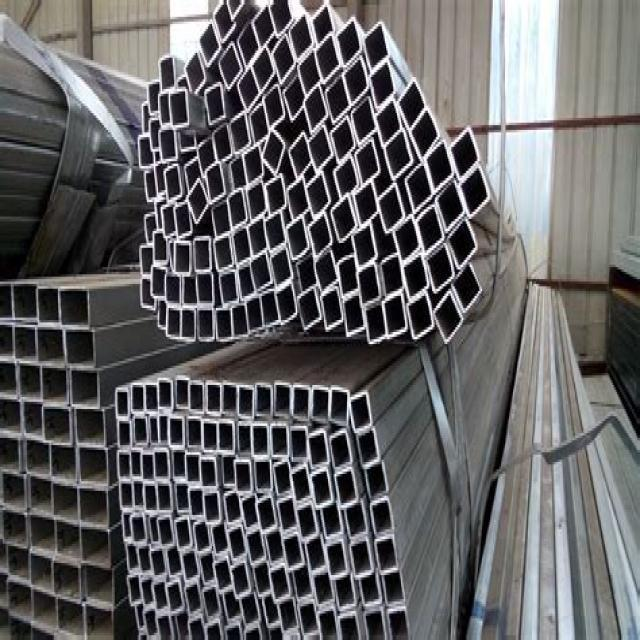pipe: (411, 108, 437, 157), (436, 295, 462, 340), (454, 266, 480, 310), (75, 409, 104, 448), (83, 566, 112, 605), (462, 171, 488, 214), (428, 247, 451, 294), (55, 561, 82, 601), (60, 290, 89, 327), (59, 599, 85, 640), (0, 509, 28, 547), (404, 256, 427, 302), (438, 184, 462, 227), (400, 83, 424, 125), (79, 491, 108, 525), (65, 332, 93, 367), (451, 221, 473, 265), (407, 168, 429, 211), (37, 329, 64, 364), (380, 188, 403, 229), (83, 527, 108, 564), (370, 65, 393, 105), (386, 136, 409, 176), (353, 102, 375, 143), (79, 450, 108, 481), (43, 368, 69, 402), (72, 371, 98, 405), (316, 37, 338, 77), (396, 220, 418, 259), (187, 182, 208, 222), (338, 23, 358, 65), (87, 609, 114, 640), (365, 28, 387, 66), (34, 591, 56, 629), (273, 40, 294, 79), (305, 91, 326, 130), (454, 137, 475, 176), (335, 158, 356, 197), (332, 122, 354, 159), (409, 297, 431, 334), (8, 582, 30, 619), (32, 516, 55, 551), (200, 23, 220, 63), (327, 79, 347, 119), (365, 302, 385, 342), (378, 104, 399, 142), (356, 184, 375, 226), (381, 258, 402, 296), (419, 210, 440, 248), (52, 448, 76, 481), (31, 554, 52, 591), (185, 53, 204, 93), (299, 54, 319, 92), (359, 266, 379, 304), (47, 408, 70, 441), (57, 521, 80, 554), (430, 149, 451, 185), (384, 297, 405, 333), (54, 486, 76, 520), (335, 471, 357, 505), (25, 443, 49, 474), (1, 475, 25, 506), (239, 72, 258, 111), (347, 60, 366, 99), (311, 129, 331, 166), (0, 400, 20, 437), (254, 50, 272, 91), (20, 365, 42, 398), (310, 214, 328, 254), (334, 202, 354, 238), (354, 229, 374, 265), (28, 481, 52, 511), (317, 254, 336, 291), (290, 21, 310, 56), (16, 326, 37, 359), (257, 497, 278, 530), (357, 145, 375, 183), (279, 497, 298, 533), (14, 285, 36, 316), (383, 570, 403, 604), (221, 49, 240, 84), (314, 571, 333, 606), (255, 8, 272, 47), (346, 296, 363, 335), (372, 500, 392, 533), (322, 505, 342, 538), (299, 601, 319, 634), (8, 550, 29, 581), (171, 90, 189, 126), (377, 539, 397, 571), (336, 576, 356, 608), (288, 220, 306, 255), (352, 541, 370, 576), (319, 610, 340, 640), (240, 26, 257, 63), (292, 137, 309, 174), (241, 492, 257, 531), (38, 289, 58, 320), (264, 136, 282, 170), (267, 179, 284, 215), (313, 9, 331, 43), (26, 400, 43, 436), (308, 538, 326, 572), (365, 611, 386, 640), (331, 433, 350, 465), (367, 466, 387, 496), (309, 177, 326, 212), (352, 397, 370, 430), (293, 469, 311, 502), (216, 2, 232, 39), (159, 57, 176, 91), (214, 236, 231, 270), (289, 184, 306, 218), (323, 295, 340, 329), (206, 85, 222, 121), (272, 0, 290, 32), (252, 256, 270, 288), (286, 78, 302, 114), (299, 293, 317, 325), (360, 431, 378, 463), (284, 537, 302, 569), (174, 204, 191, 237), (313, 472, 330, 505), (233, 562, 250, 595), (299, 505, 316, 538), (329, 542, 346, 575), (347, 503, 364, 536), (232, 117, 248, 152), (0, 362, 16, 397), (267, 529, 283, 564), (390, 609, 408, 640), (0, 442, 19, 471), (229, 527, 246, 559), (242, 594, 259, 626), (294, 568, 311, 600), (267, 89, 282, 125), (361, 575, 380, 603), (339, 261, 355, 294), (203, 585, 219, 618), (311, 434, 328, 465), (271, 567, 288, 598), (207, 166, 222, 201), (251, 108, 266, 143), (223, 590, 241, 619), (249, 185, 265, 217), (166, 166, 181, 200), (340, 616, 361, 640), (175, 242, 190, 275), (226, 492, 241, 525), (264, 593, 279, 626), (273, 255, 290, 284), (215, 560, 232, 589), (139, 136, 155, 166), (168, 582, 184, 612), (186, 583, 201, 615), (195, 522, 210, 554), (234, 232, 249, 263), (247, 299, 262, 330), (262, 295, 277, 326), (168, 548, 183, 579), (278, 290, 294, 319), (248, 530, 264, 559), (251, 221, 265, 254), (197, 274, 212, 304), (331, 392, 346, 422), (255, 565, 270, 595), (153, 232, 167, 264), (215, 128, 229, 160), (299, 259, 314, 288), (213, 525, 228, 554), (141, 278, 155, 309), (214, 203, 228, 234), (162, 202, 174, 238), (236, 462, 252, 489), (280, 602, 296, 629), (230, 194, 243, 227), (195, 240, 209, 270), (246, 151, 260, 181), (267, 218, 282, 246), (313, 390, 328, 418), (184, 551, 198, 581), (152, 269, 166, 298), (148, 82, 160, 115), (128, 575, 142, 603), (176, 484, 190, 512), (199, 310, 214, 336), (273, 429, 288, 455), (155, 581, 168, 611), (201, 553, 214, 583), (183, 277, 197, 304), (222, 276, 236, 303), (200, 140, 213, 169), (0, 327, 13, 356), (218, 311, 231, 339), (276, 385, 289, 413), (292, 431, 306, 457), (202, 460, 215, 488), (276, 466, 290, 492), (140, 245, 151, 277), (223, 455, 234, 487), (190, 618, 206, 640), (167, 309, 180, 336), (254, 427, 267, 454), (205, 495, 218, 522), (160, 92, 170, 127), (159, 615, 173, 640), (115, 388, 127, 417), (145, 171, 156, 202), (145, 214, 156, 245), (223, 385, 236, 411), (176, 614, 189, 640), (231, 161, 243, 189), (172, 452, 186, 476), (158, 484, 170, 512), (178, 519, 190, 547), (240, 390, 253, 415), (168, 277, 180, 304), (233, 307, 245, 334), (295, 388, 307, 415), (256, 464, 270, 487), (0, 284, 10, 316), (241, 268, 252, 297), (257, 388, 270, 412), (186, 158, 198, 183), (208, 386, 220, 411), (170, 420, 182, 445), (188, 419, 200, 444), (205, 423, 217, 448), (220, 424, 232, 449), (188, 455, 200, 480), (127, 545, 139, 570), (160, 521, 173, 544), (153, 552, 166, 575), (159, 382, 171, 406), (156, 452, 168, 476), (143, 453, 154, 479), (162, 132, 174, 155), (191, 490, 203, 513), (140, 548, 151, 573), (150, 118, 158, 152), (207, 622, 222, 640), (156, 162, 164, 195), (191, 386, 202, 410), (119, 454, 131, 476), (142, 581, 154, 603), (240, 427, 250, 453), (119, 421, 130, 444), (121, 485, 132, 508), (183, 312, 193, 337), (136, 605, 145, 632), (135, 421, 147, 441), (133, 517, 144, 538), (177, 382, 187, 405), (147, 388, 157, 409), (146, 487, 156, 508), (227, 626, 242, 640), (134, 482, 143, 505), (147, 610, 156, 633), (150, 516, 158, 541), (133, 388, 142, 410), (246, 627, 261, 640), (124, 514, 132, 538), (160, 417, 168, 440), (142, 104, 148, 134), (154, 199, 160, 228), (229, 0, 240, 15), (133, 452, 140, 475), (180, 137, 194, 148), (150, 419, 157, 441), (159, 303, 165, 326)
